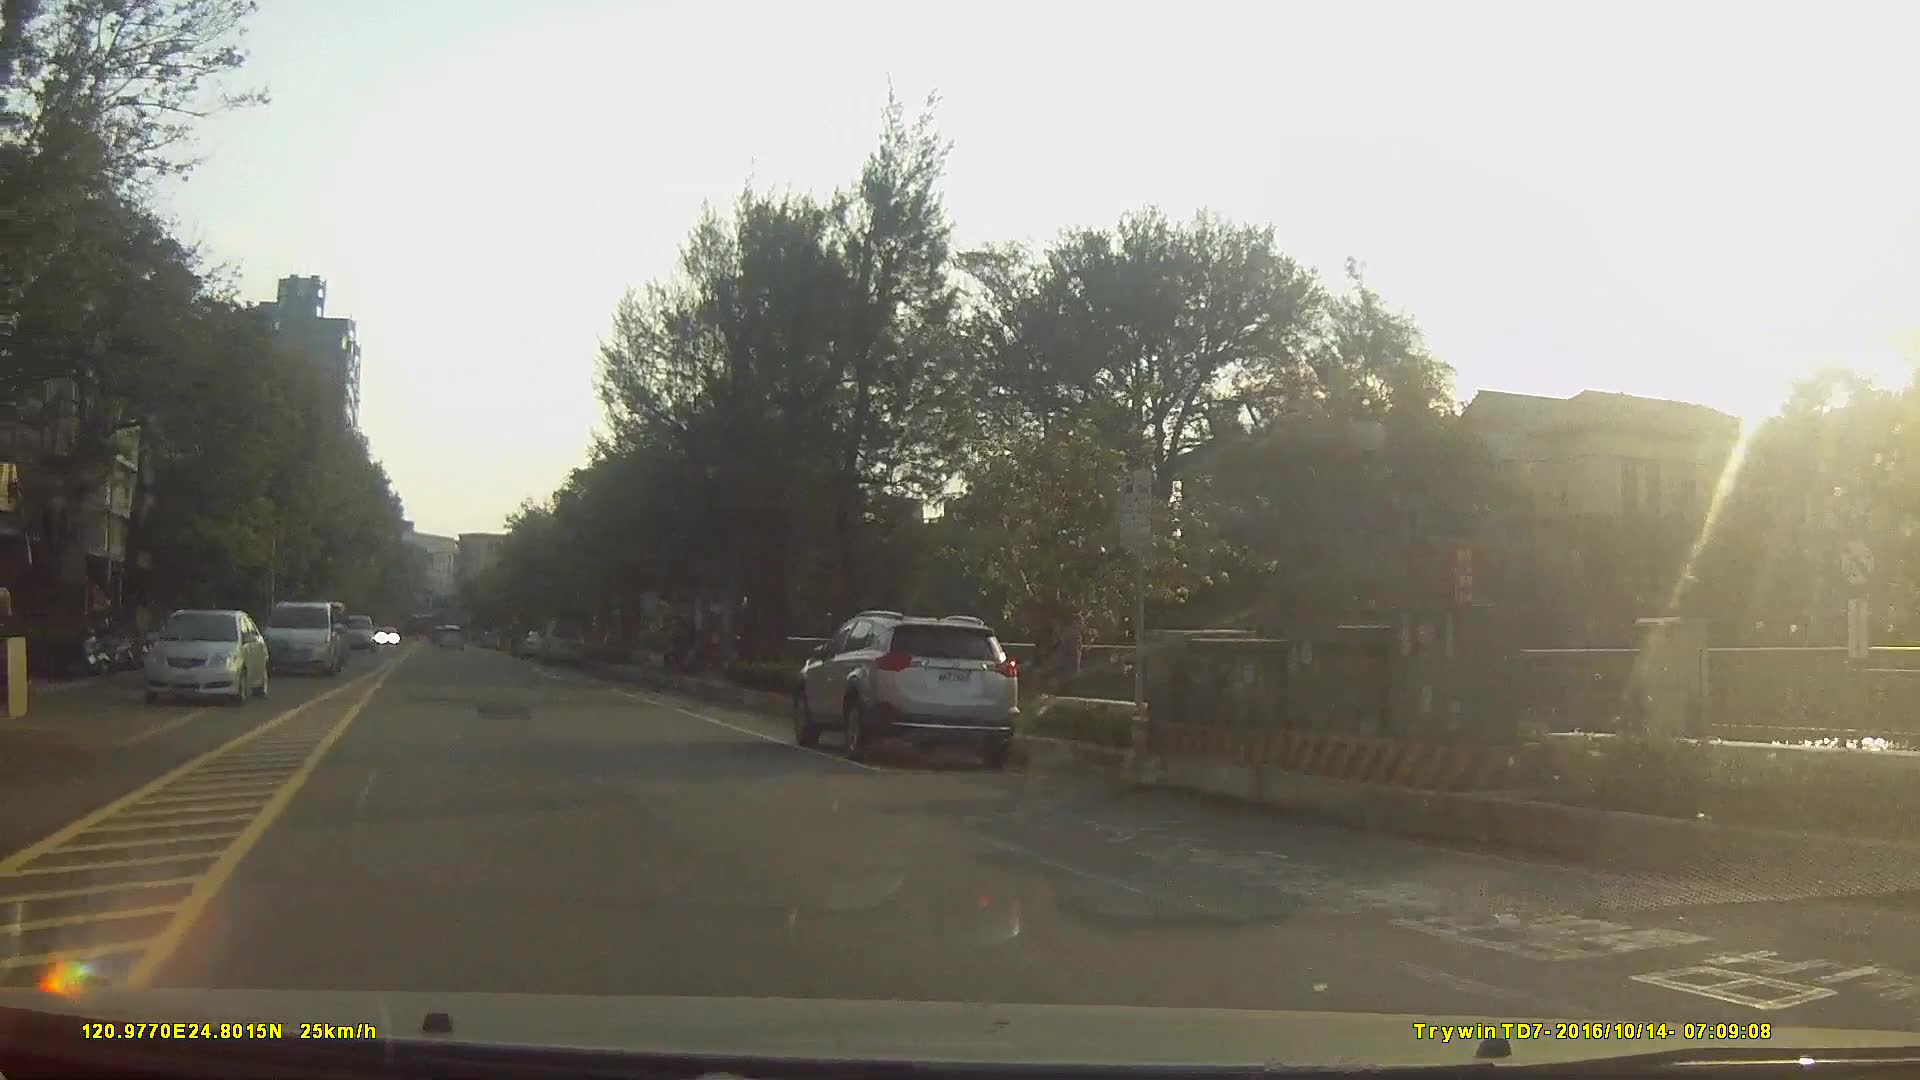vehicle: (794, 605, 1017, 758), (142, 609, 269, 704), (265, 600, 342, 676), (535, 620, 587, 665), (332, 608, 375, 655)
